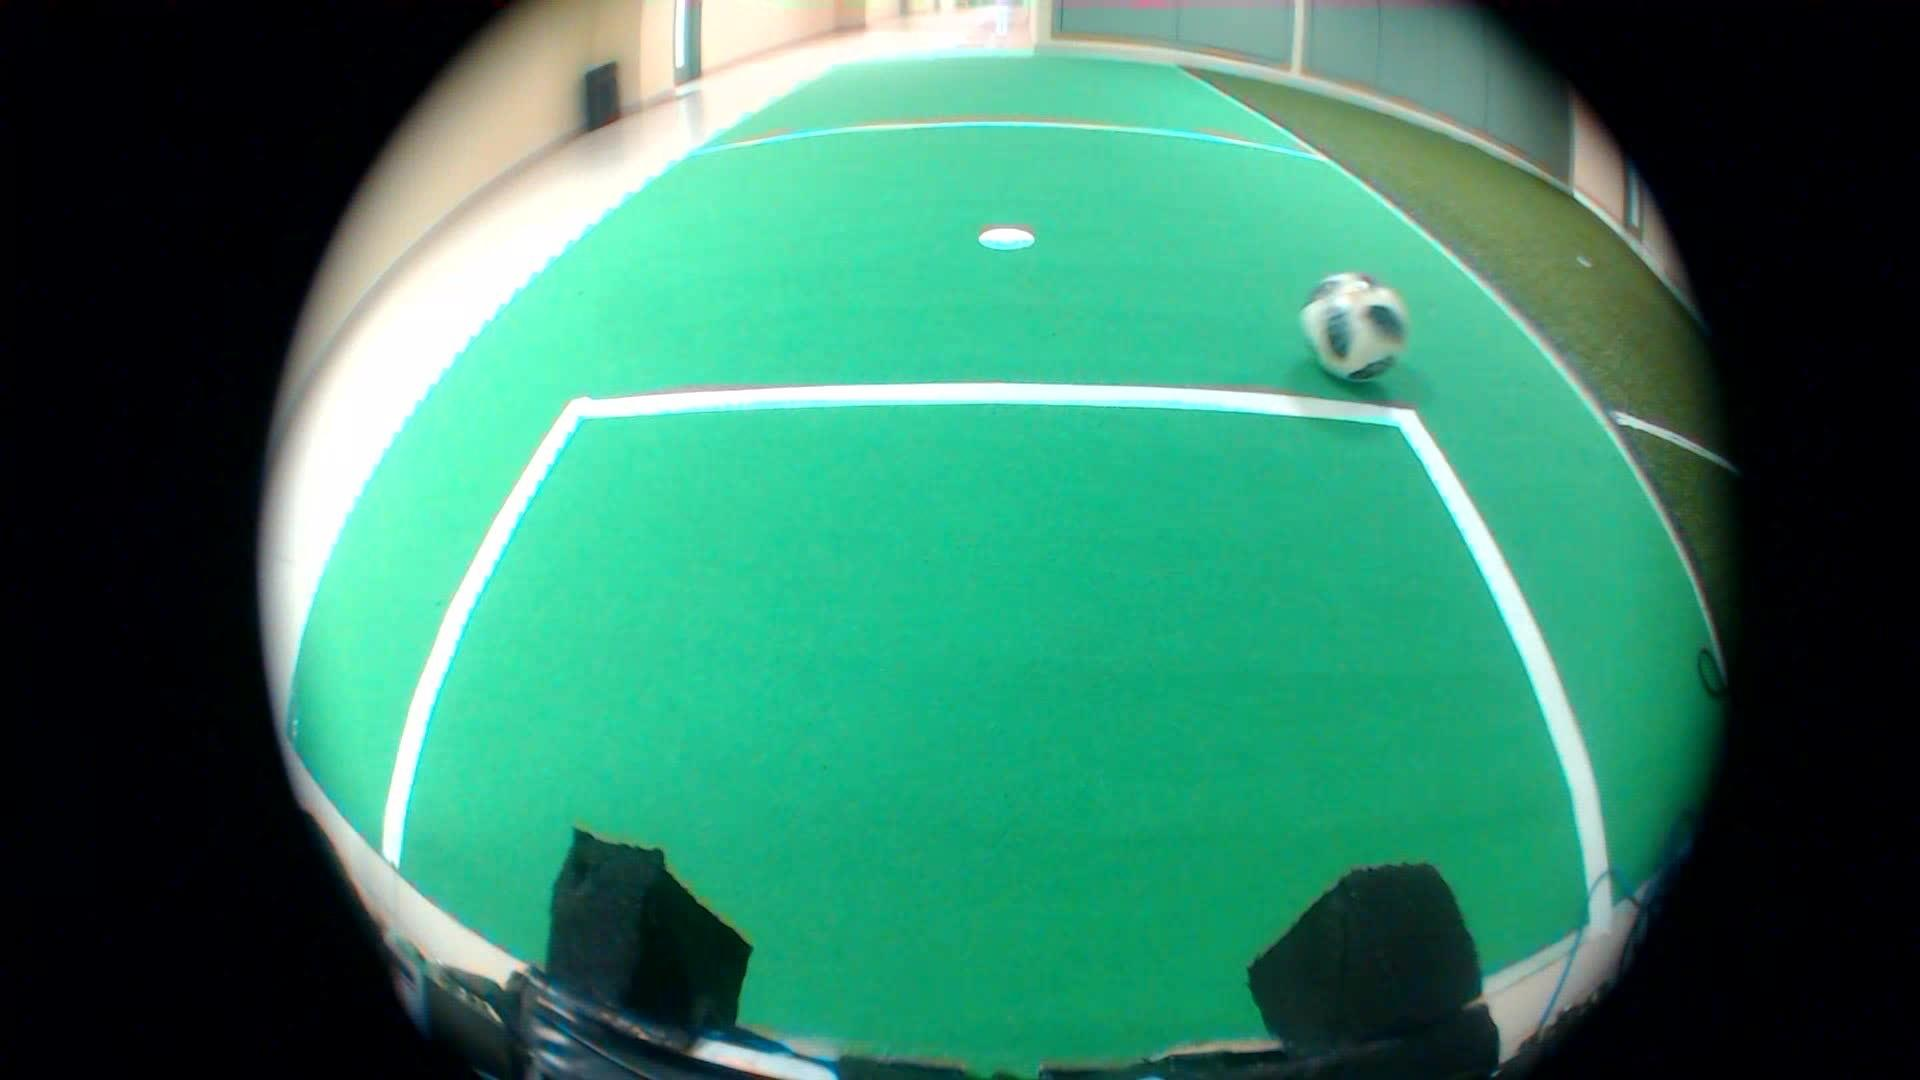ball: (1286, 261, 1412, 404)
